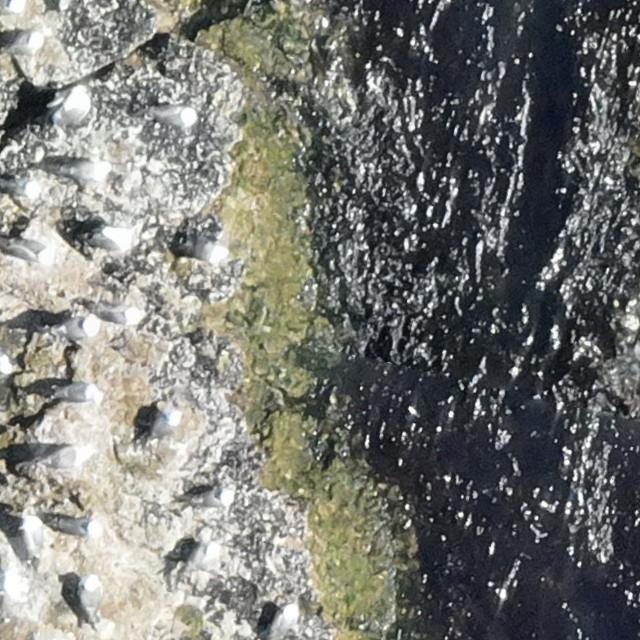umineko: (44, 514, 103, 538), (5, 236, 54, 264), (51, 159, 113, 181), (187, 539, 221, 579), (41, 447, 93, 472), (79, 574, 104, 626), (56, 88, 88, 128), (20, 515, 44, 567), (90, 225, 133, 253), (149, 408, 182, 443), (52, 317, 100, 339), (156, 104, 197, 128), (269, 603, 297, 638), (186, 487, 234, 506), (7, 29, 44, 52), (185, 243, 228, 262), (100, 305, 140, 325), (51, 383, 98, 399), (3, 177, 42, 196)
